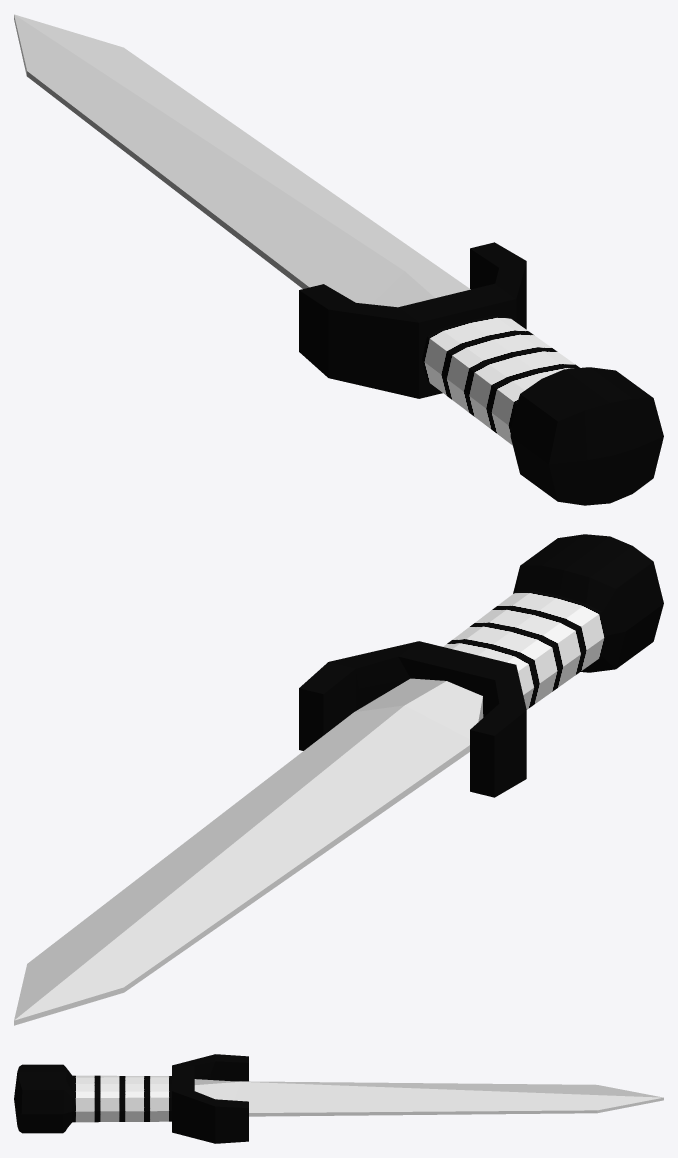
The model's file is ChargedSword2.fbx.
3 renders of one model, top to bottom at view 1: azimuth 30°, elevation 25°; view 2: azimuth 150°, elevation 25°; view 3: azimuth 270°, elevation 25°, orthographic. The views are drawn at different scales.
Parts seen in each view (by area): view 1: Cube, Cube.001; view 2: Cube.001, Cube; view 3: Cube, Cube.001.
Part boxes in pixels (bbox=[...]): Cube: bbox=[299, 242, 663, 505]; Cube.001: bbox=[14, 14, 470, 307]; Cube.001: bbox=[14, 678, 483, 1025]; Cube: bbox=[299, 534, 663, 797]; Cube: bbox=[14, 1054, 248, 1143]; Cube.001: bbox=[194, 1079, 663, 1116].
Size of the model in its own units: 186 by 90 by 975.
